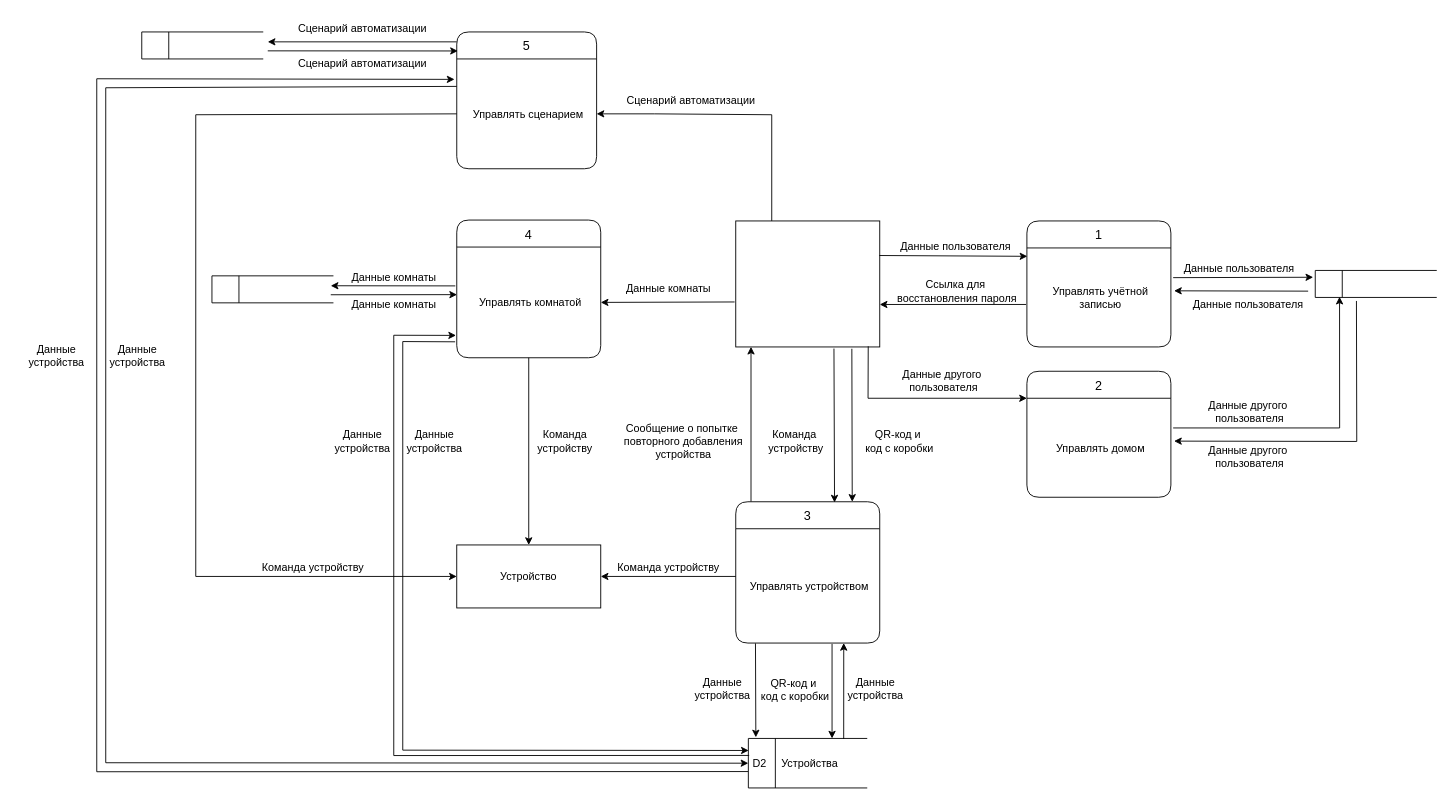
This 1453x804 diagram has some shape labels left out. The shapes that lost their labels are listed below. From the top down, each one's centre as x and y in pixels, then its label:
At pixel 202 45: "D4 Сценарии автоматизации".
At pixel 272 289: "D3 Комнаты".
At pixel 807 283: "Пользователь".
At pixel 1375 283: "D1 Пользователи".
